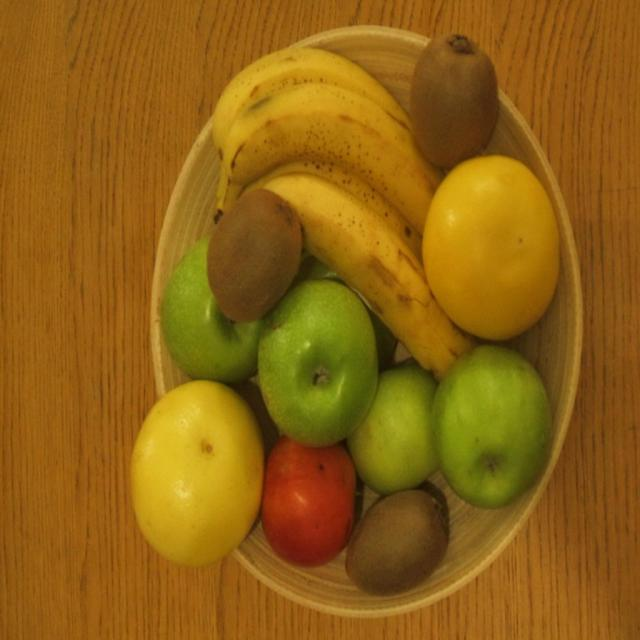Healty Apple: (430, 344, 556, 509), (256, 285, 378, 451), (161, 236, 263, 383), (351, 356, 442, 497), (300, 252, 398, 371)
